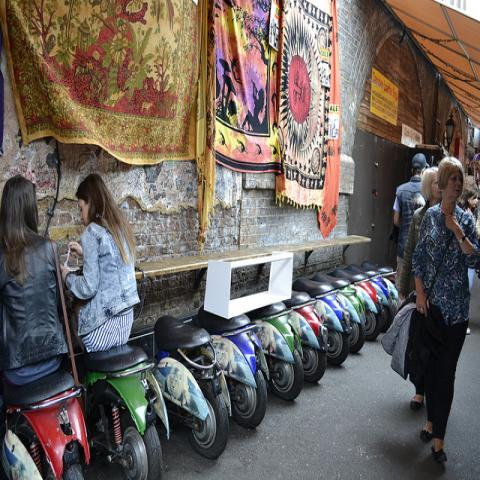motorcycle: (152, 314, 231, 457), (82, 347, 169, 473), (1, 357, 89, 474), (196, 302, 270, 426), (250, 298, 303, 407), (294, 277, 350, 370), (310, 270, 366, 353), (284, 289, 330, 383), (332, 268, 383, 341)
